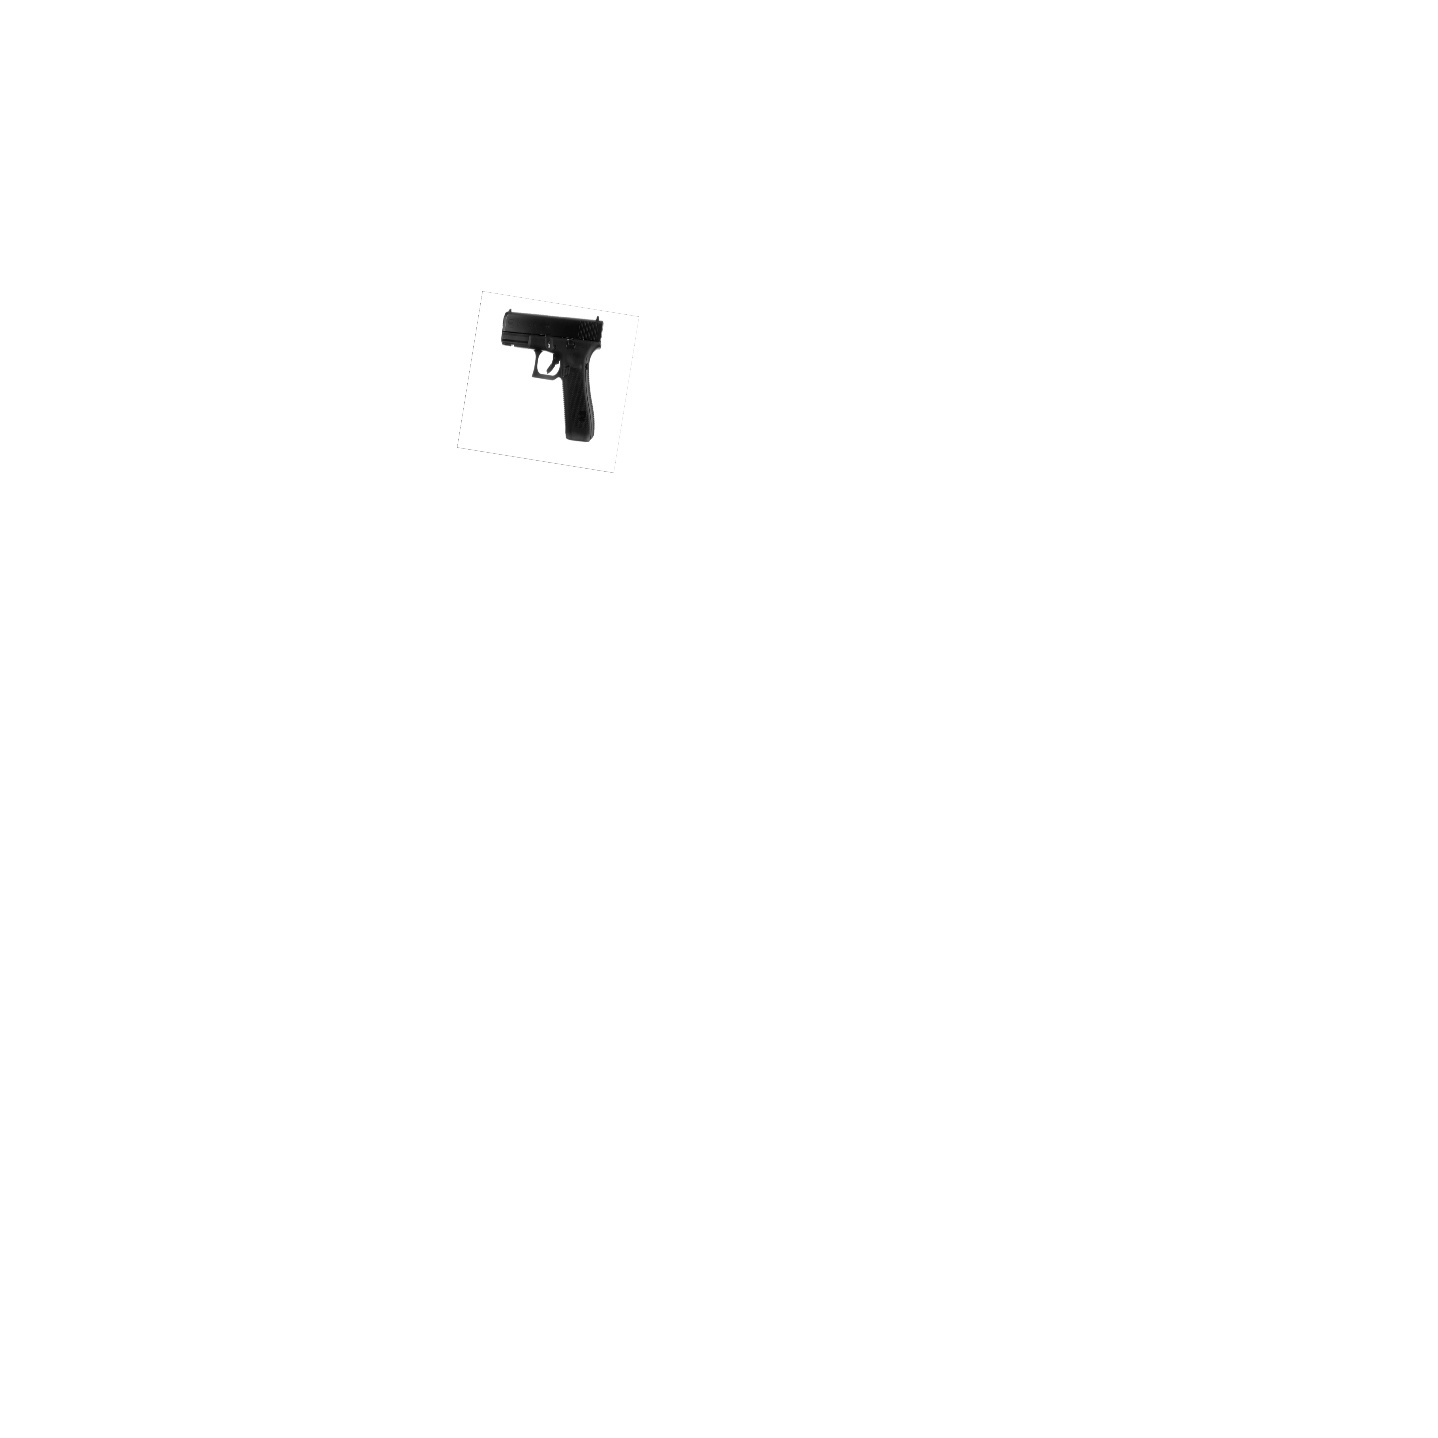gun: (494, 306, 608, 445)
